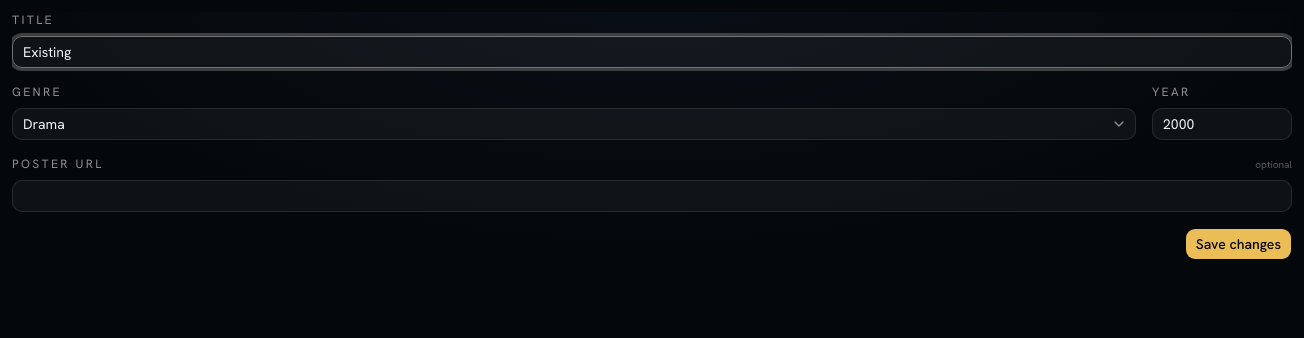
Test: MovieForm › surfaces ApiError messages inline when submit fails
Click the button "Save changes": (1238, 244) [1185, 228, 1292, 260]
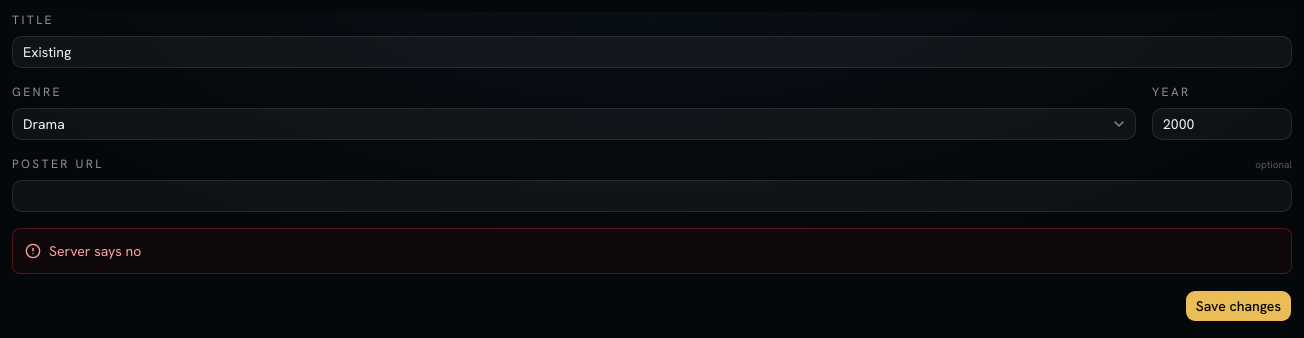
Check: the text "Server says no" is shown, box [49, 241, 141, 261]
